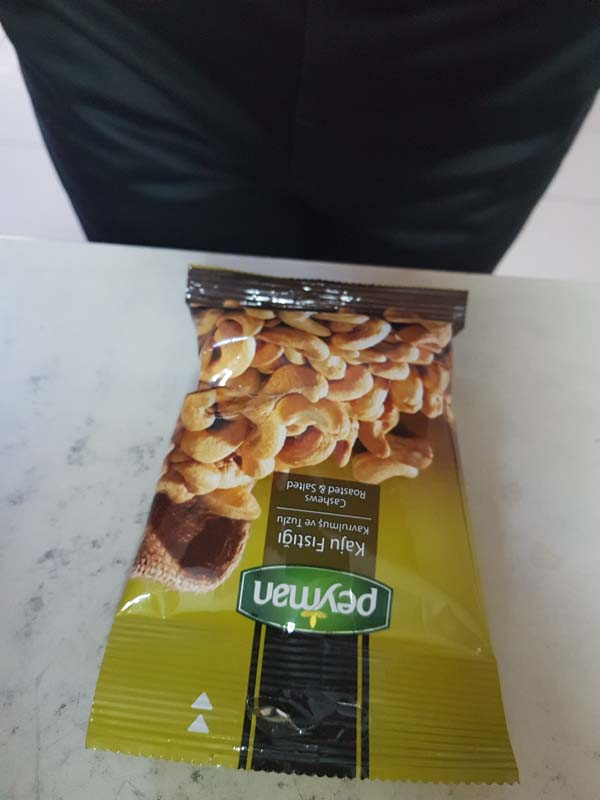kajupeyman: (85, 258, 530, 793)
